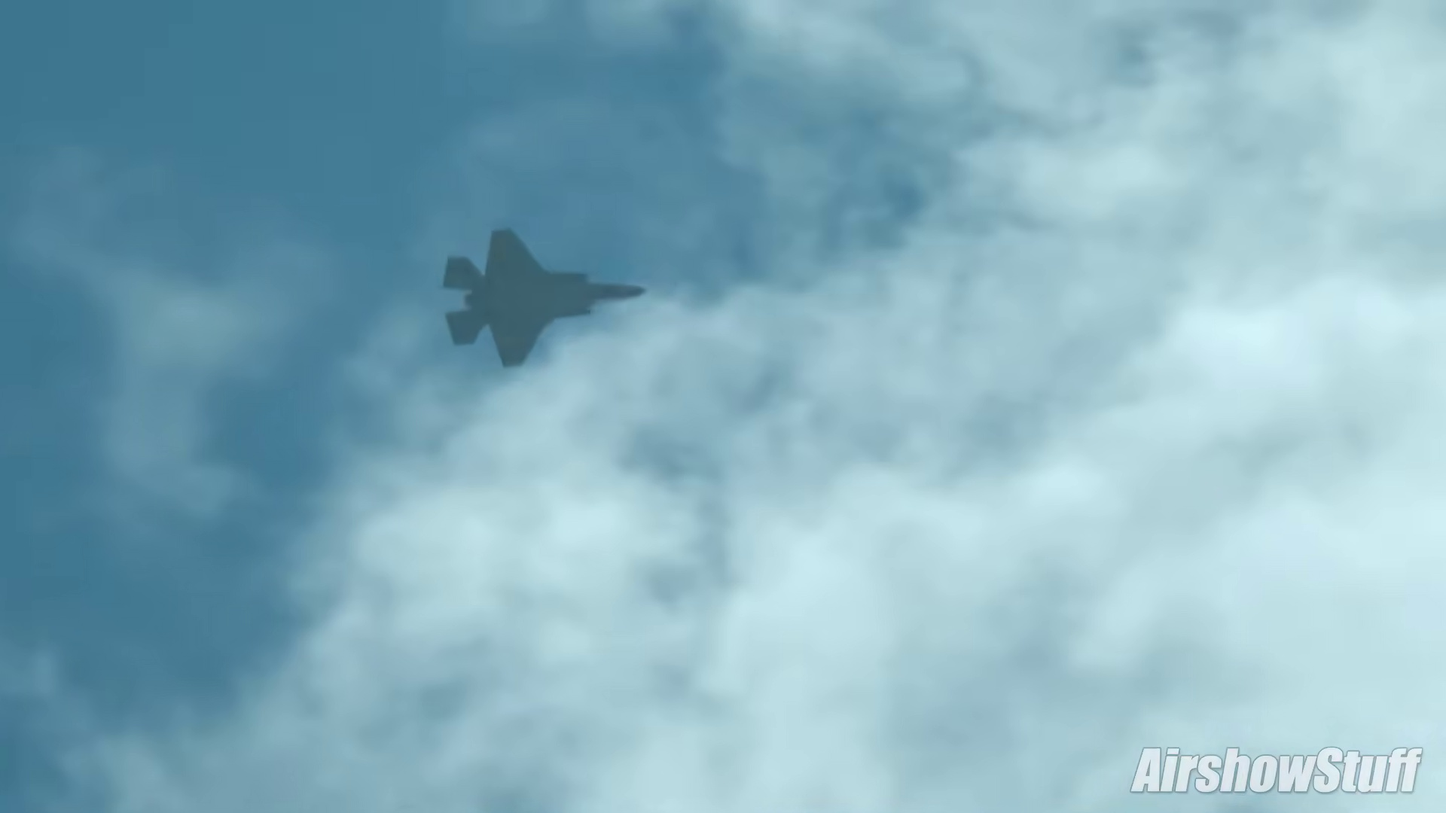F35: (433, 219, 655, 376)
